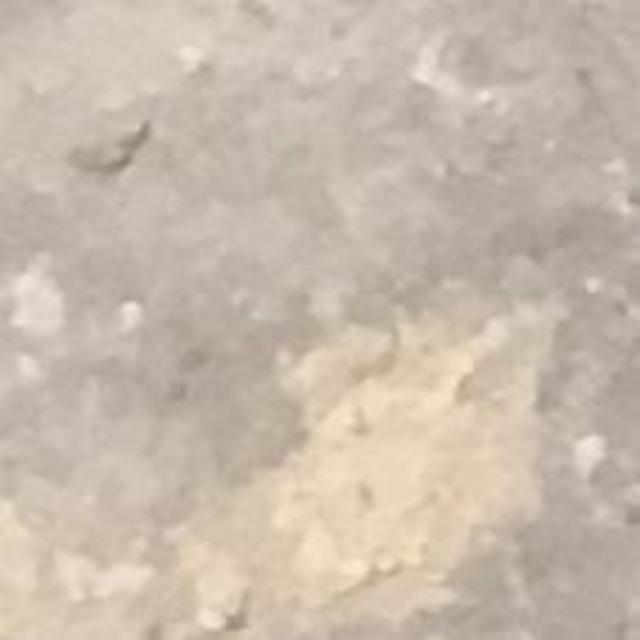peeling plaster: (0, 308, 558, 639)
